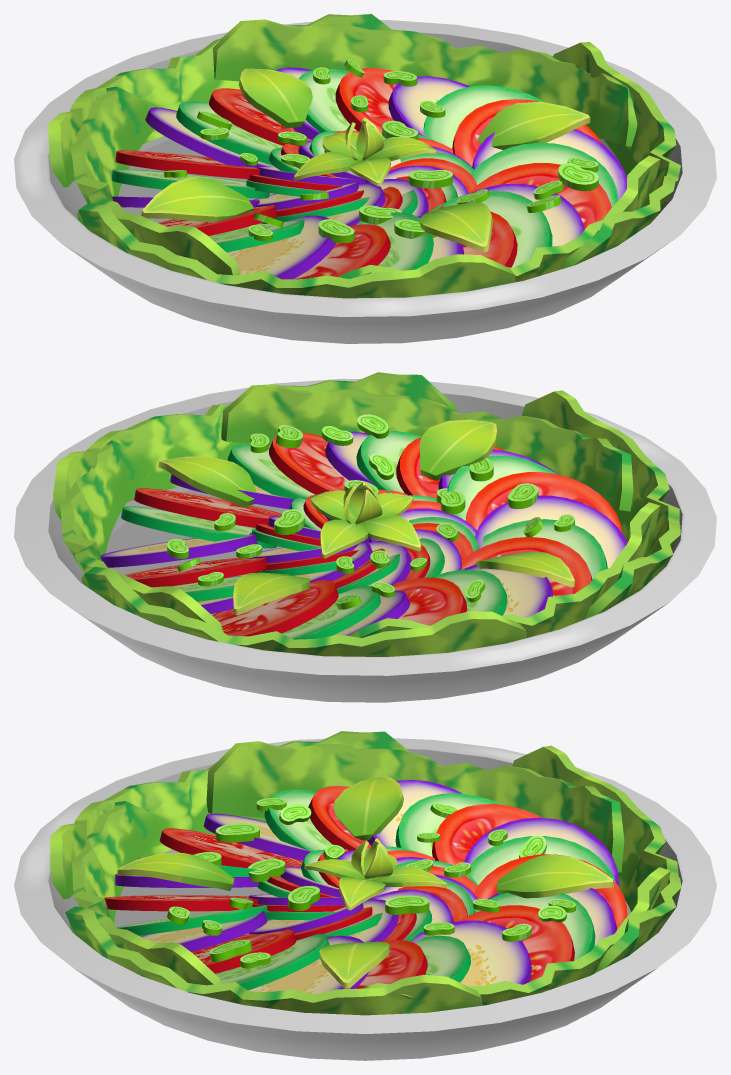
Rendered from 2_3_ratatyi.fbx.
3 renders of one model, top to bottom at view 1: azimuth 30°, elevation 25°; view 2: azimuth 150°, elevation 25°; view 3: azimuth 270°, elevation 25°, orthographic.
Visible parts, largest first — view 1: Circle.146; view 2: Circle.146; view 3: Circle.146.
Part boxes in pixels (<box>): Circle.146: <box>14,14,716,343</box>; Circle.146: <box>14,372,716,702</box>; Circle.146: <box>14,731,716,1060</box>.
Bounding box in the file's own units: 4.89 × 0.9235 × 4.89.
1 material, 1 textured.
